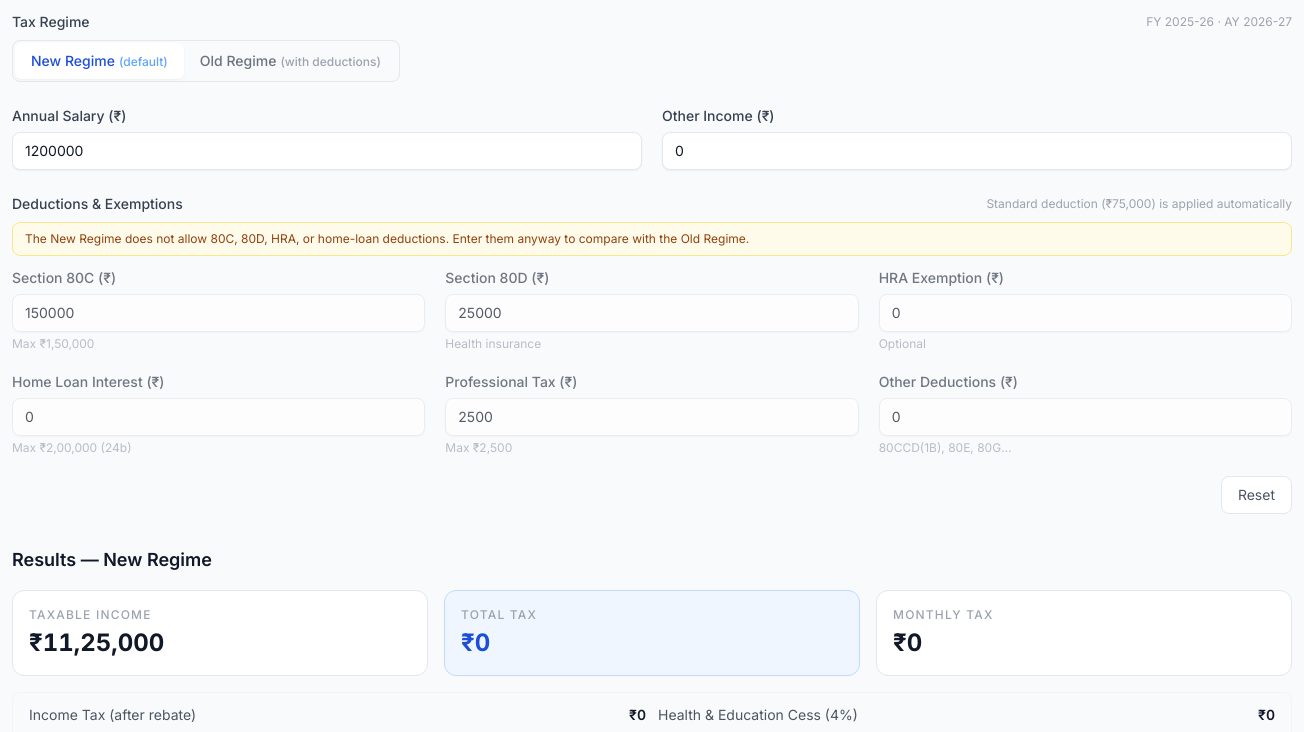
IncomeTaxCalculator › switching to Old Regime updates the results heading
Check: the heading "Results — New Regime" is shown, box [12,549,212,570]
Click the button "Old Regime(with deductions)".
click(290, 61)  # box [184,43,397,79]
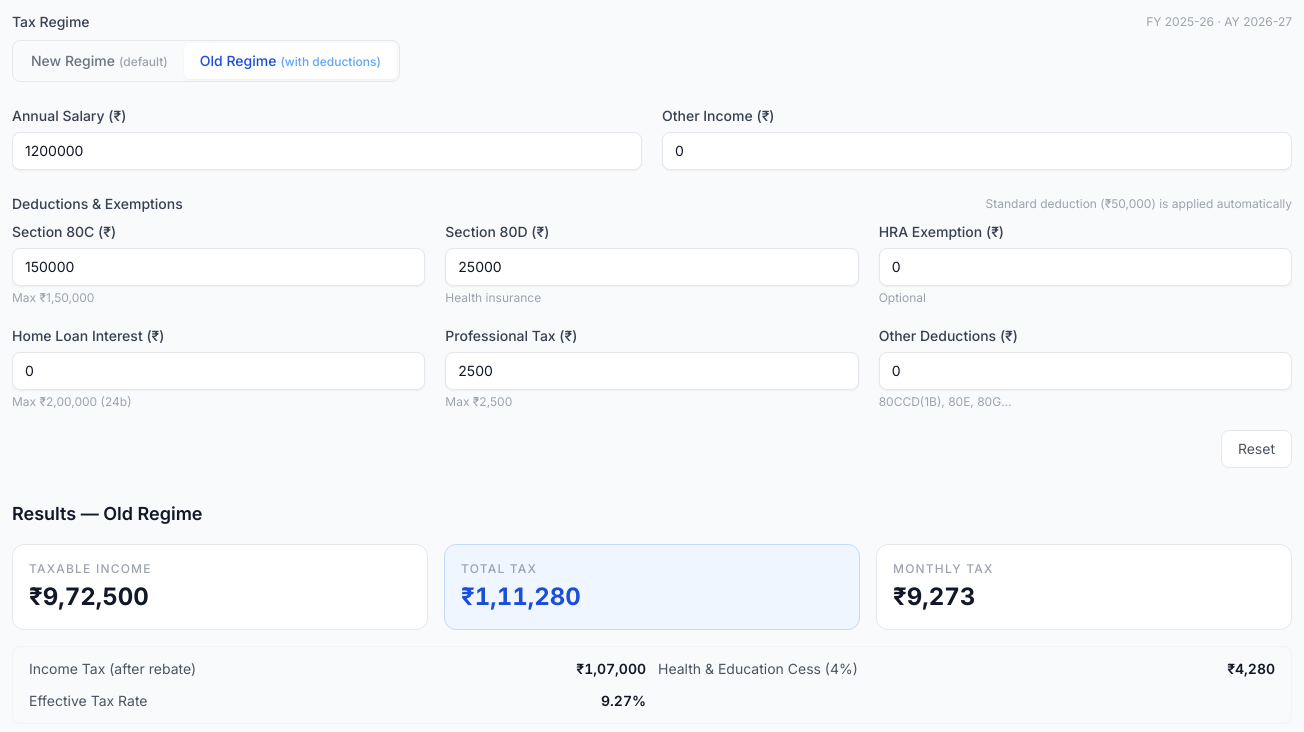
Check: the heading "Results — Old Regime" is shown, box [12,503,202,524]
